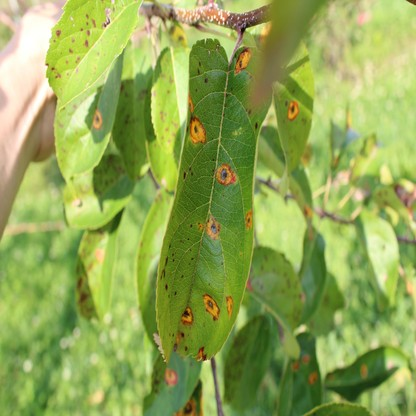rust: (215, 164, 236, 184), (190, 119, 206, 143), (203, 295, 219, 319), (206, 216, 221, 238), (177, 397, 197, 413), (236, 50, 251, 71), (293, 353, 310, 367), (286, 103, 299, 120), (181, 307, 194, 323), (92, 110, 102, 128), (95, 249, 105, 264), (166, 369, 177, 382), (226, 297, 233, 317), (246, 210, 252, 228), (307, 371, 316, 382), (360, 364, 368, 376), (188, 96, 193, 112), (303, 206, 312, 214), (247, 279, 252, 291), (198, 346, 202, 356), (199, 223, 203, 230)
